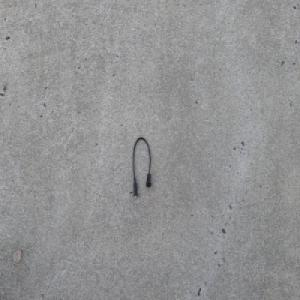Wire: (132, 136, 151, 199)
